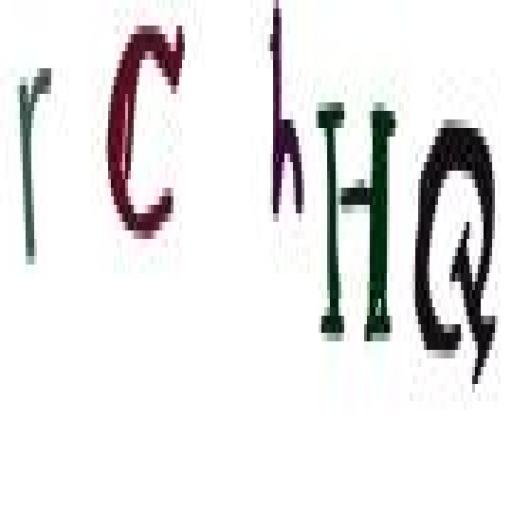C: (98, 6, 196, 260)
H: (314, 87, 400, 365)
Q: (410, 91, 501, 400)
h: (253, 0, 310, 239)
r: (10, 36, 59, 279)
